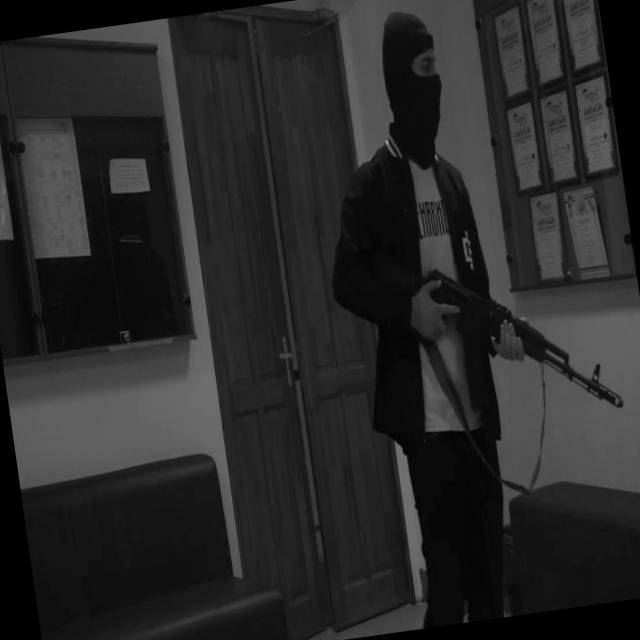gun: (367, 215, 626, 442)
person with a gun: (295, 0, 640, 633)
